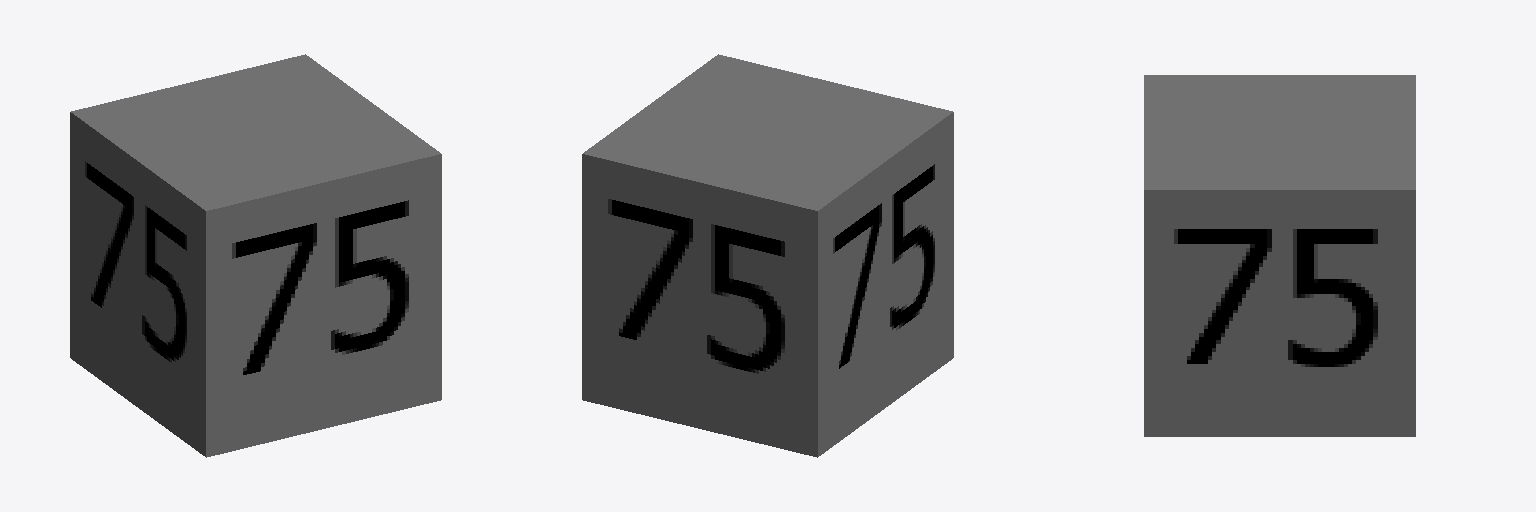
3 renders of one model, left to right at view 1: azimuth 30°, elevation 25°; view 2: azimuth 150°, elevation 25°; view 3: azimuth 270°, elevation 25°, orthographic.
Size of the model in its own units: 1 by 1 by 1.
1 materials, 1 textured.